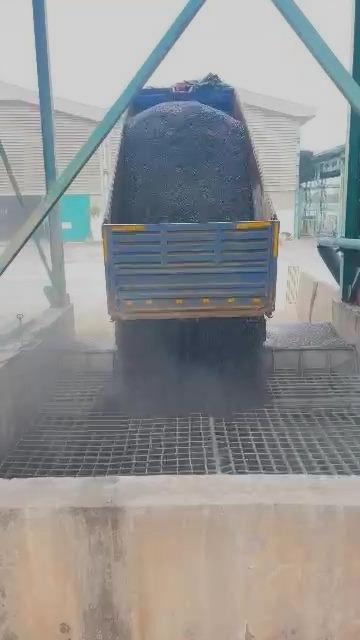gravel: (112, 319, 264, 416), (267, 322, 346, 349)
